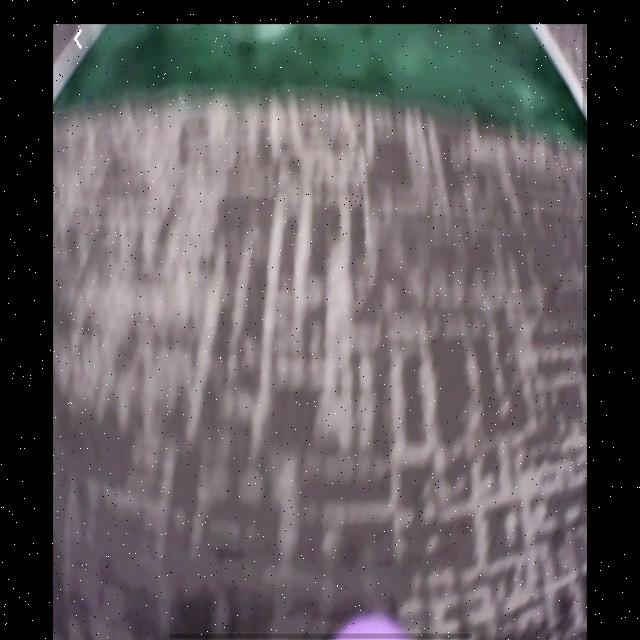ball: (337, 610, 406, 640)
